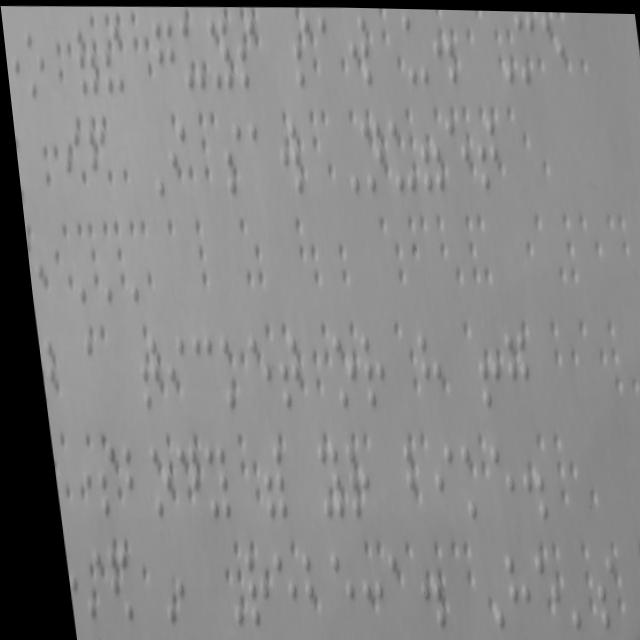braiile: (517, 546, 555, 640), (302, 429, 337, 525), (387, 430, 422, 525), (189, 433, 224, 527), (576, 539, 612, 629), (331, 429, 365, 524), (371, 539, 405, 634), (467, 106, 502, 197), (474, 433, 509, 524), (282, 539, 317, 630), (490, 539, 523, 634), (132, 436, 167, 525), (312, 543, 347, 632), (264, 327, 299, 415), (405, 323, 440, 411), (491, 320, 526, 408), (124, 326, 158, 415), (160, 432, 194, 520), (446, 436, 480, 524), (352, 110, 385, 199), (319, 326, 353, 412), (418, 431, 450, 520), (256, 543, 289, 629), (271, 114, 303, 202), (236, 326, 268, 413), (180, 331, 213, 415), (348, 326, 380, 412), (228, 545, 260, 630), (215, 115, 247, 199), (160, 110, 190, 199), (440, 113, 472, 196), (81, 438, 113, 521), (231, 13, 264, 93), (20, 25, 50, 112), (384, 113, 415, 197), (288, 14, 321, 91), (399, 10, 431, 88), (209, 330, 239, 413), (108, 436, 137, 521), (344, 10, 375, 88), (154, 331, 184, 410), (204, 13, 233, 93), (316, 11, 345, 90), (176, 15, 205, 93), (150, 15, 178, 92)
